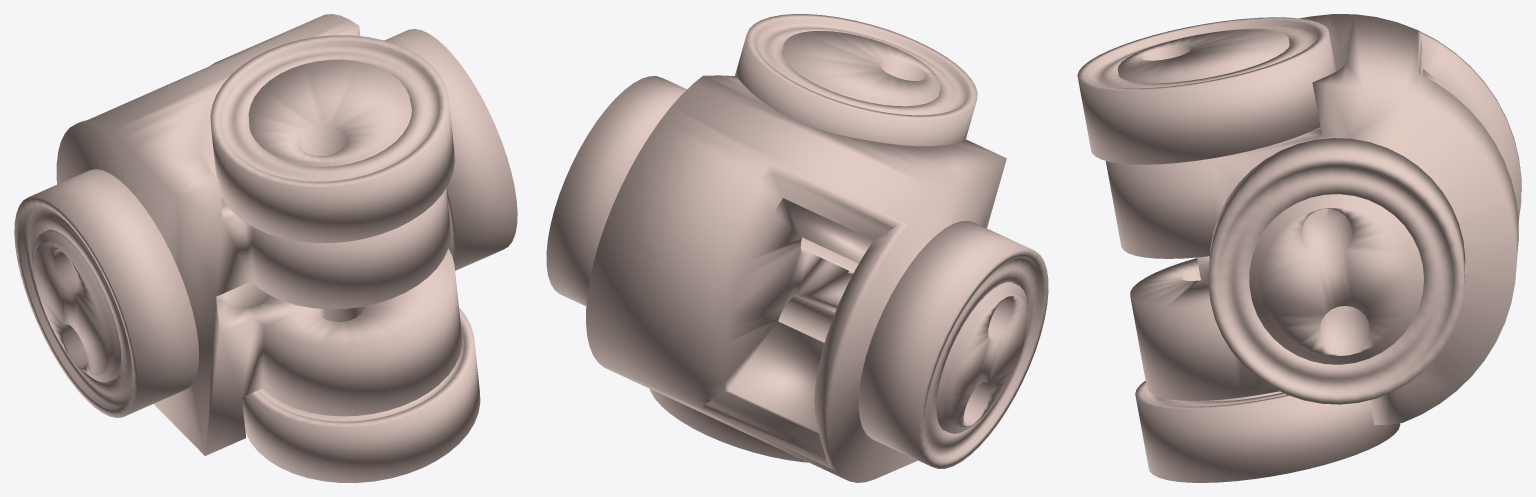
The model's file is pinky_knuckle_1.obj.
3 views of the same model, side by side, from view 1: azimuth 30°, elevation 25°; view 2: azimuth 150°, elevation 25°; view 3: azimuth 270°, elevation 25° (orthographic). The views are drawn at different scales.
Bounding box in the file's own units: 20.1 × 18.06 × 17.37.
